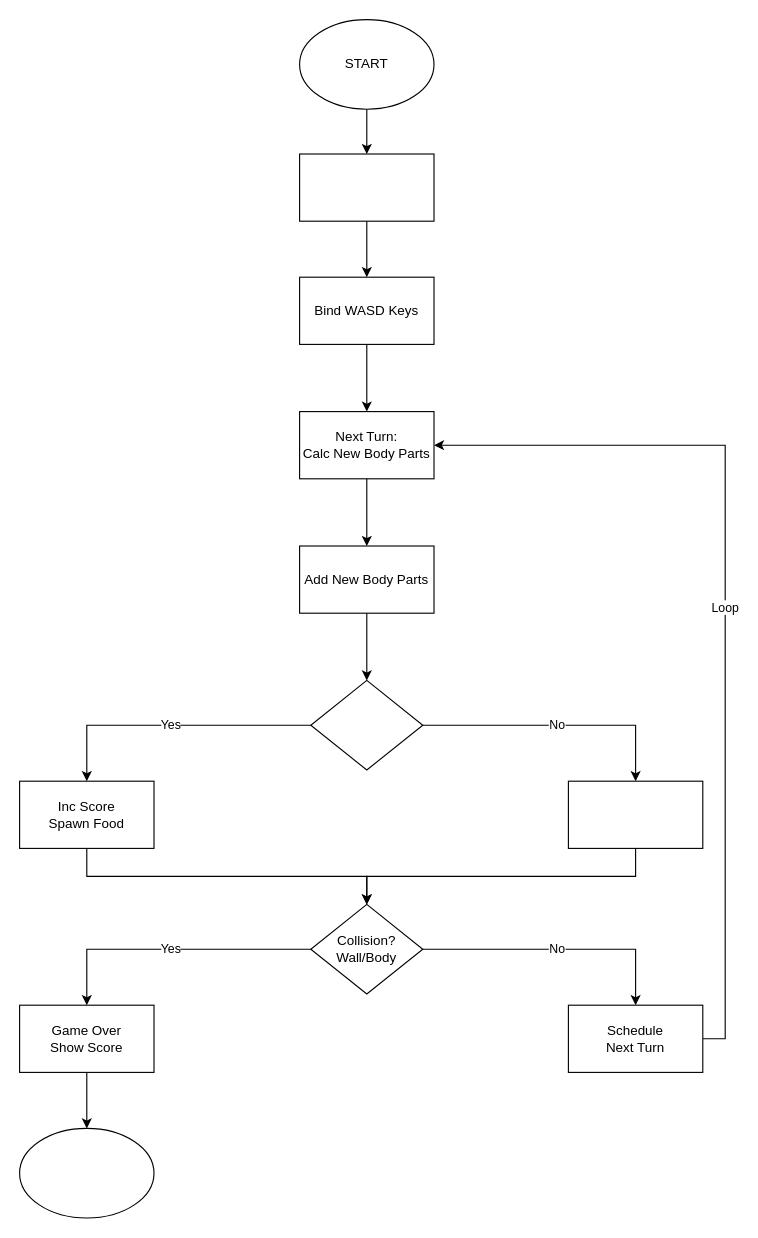
The diagram is 758 pixels wide and 1238 high, and some of its shapes have lost their labels. The centre of each missing label's shape, as x and y in pixels:
"END" goes at [86,1172].
"Food Eaten?" goes at [366,724].
"initialize: Window, Snake, Food" goes at [366,187].
"Remove Tail" goes at [635,814].
